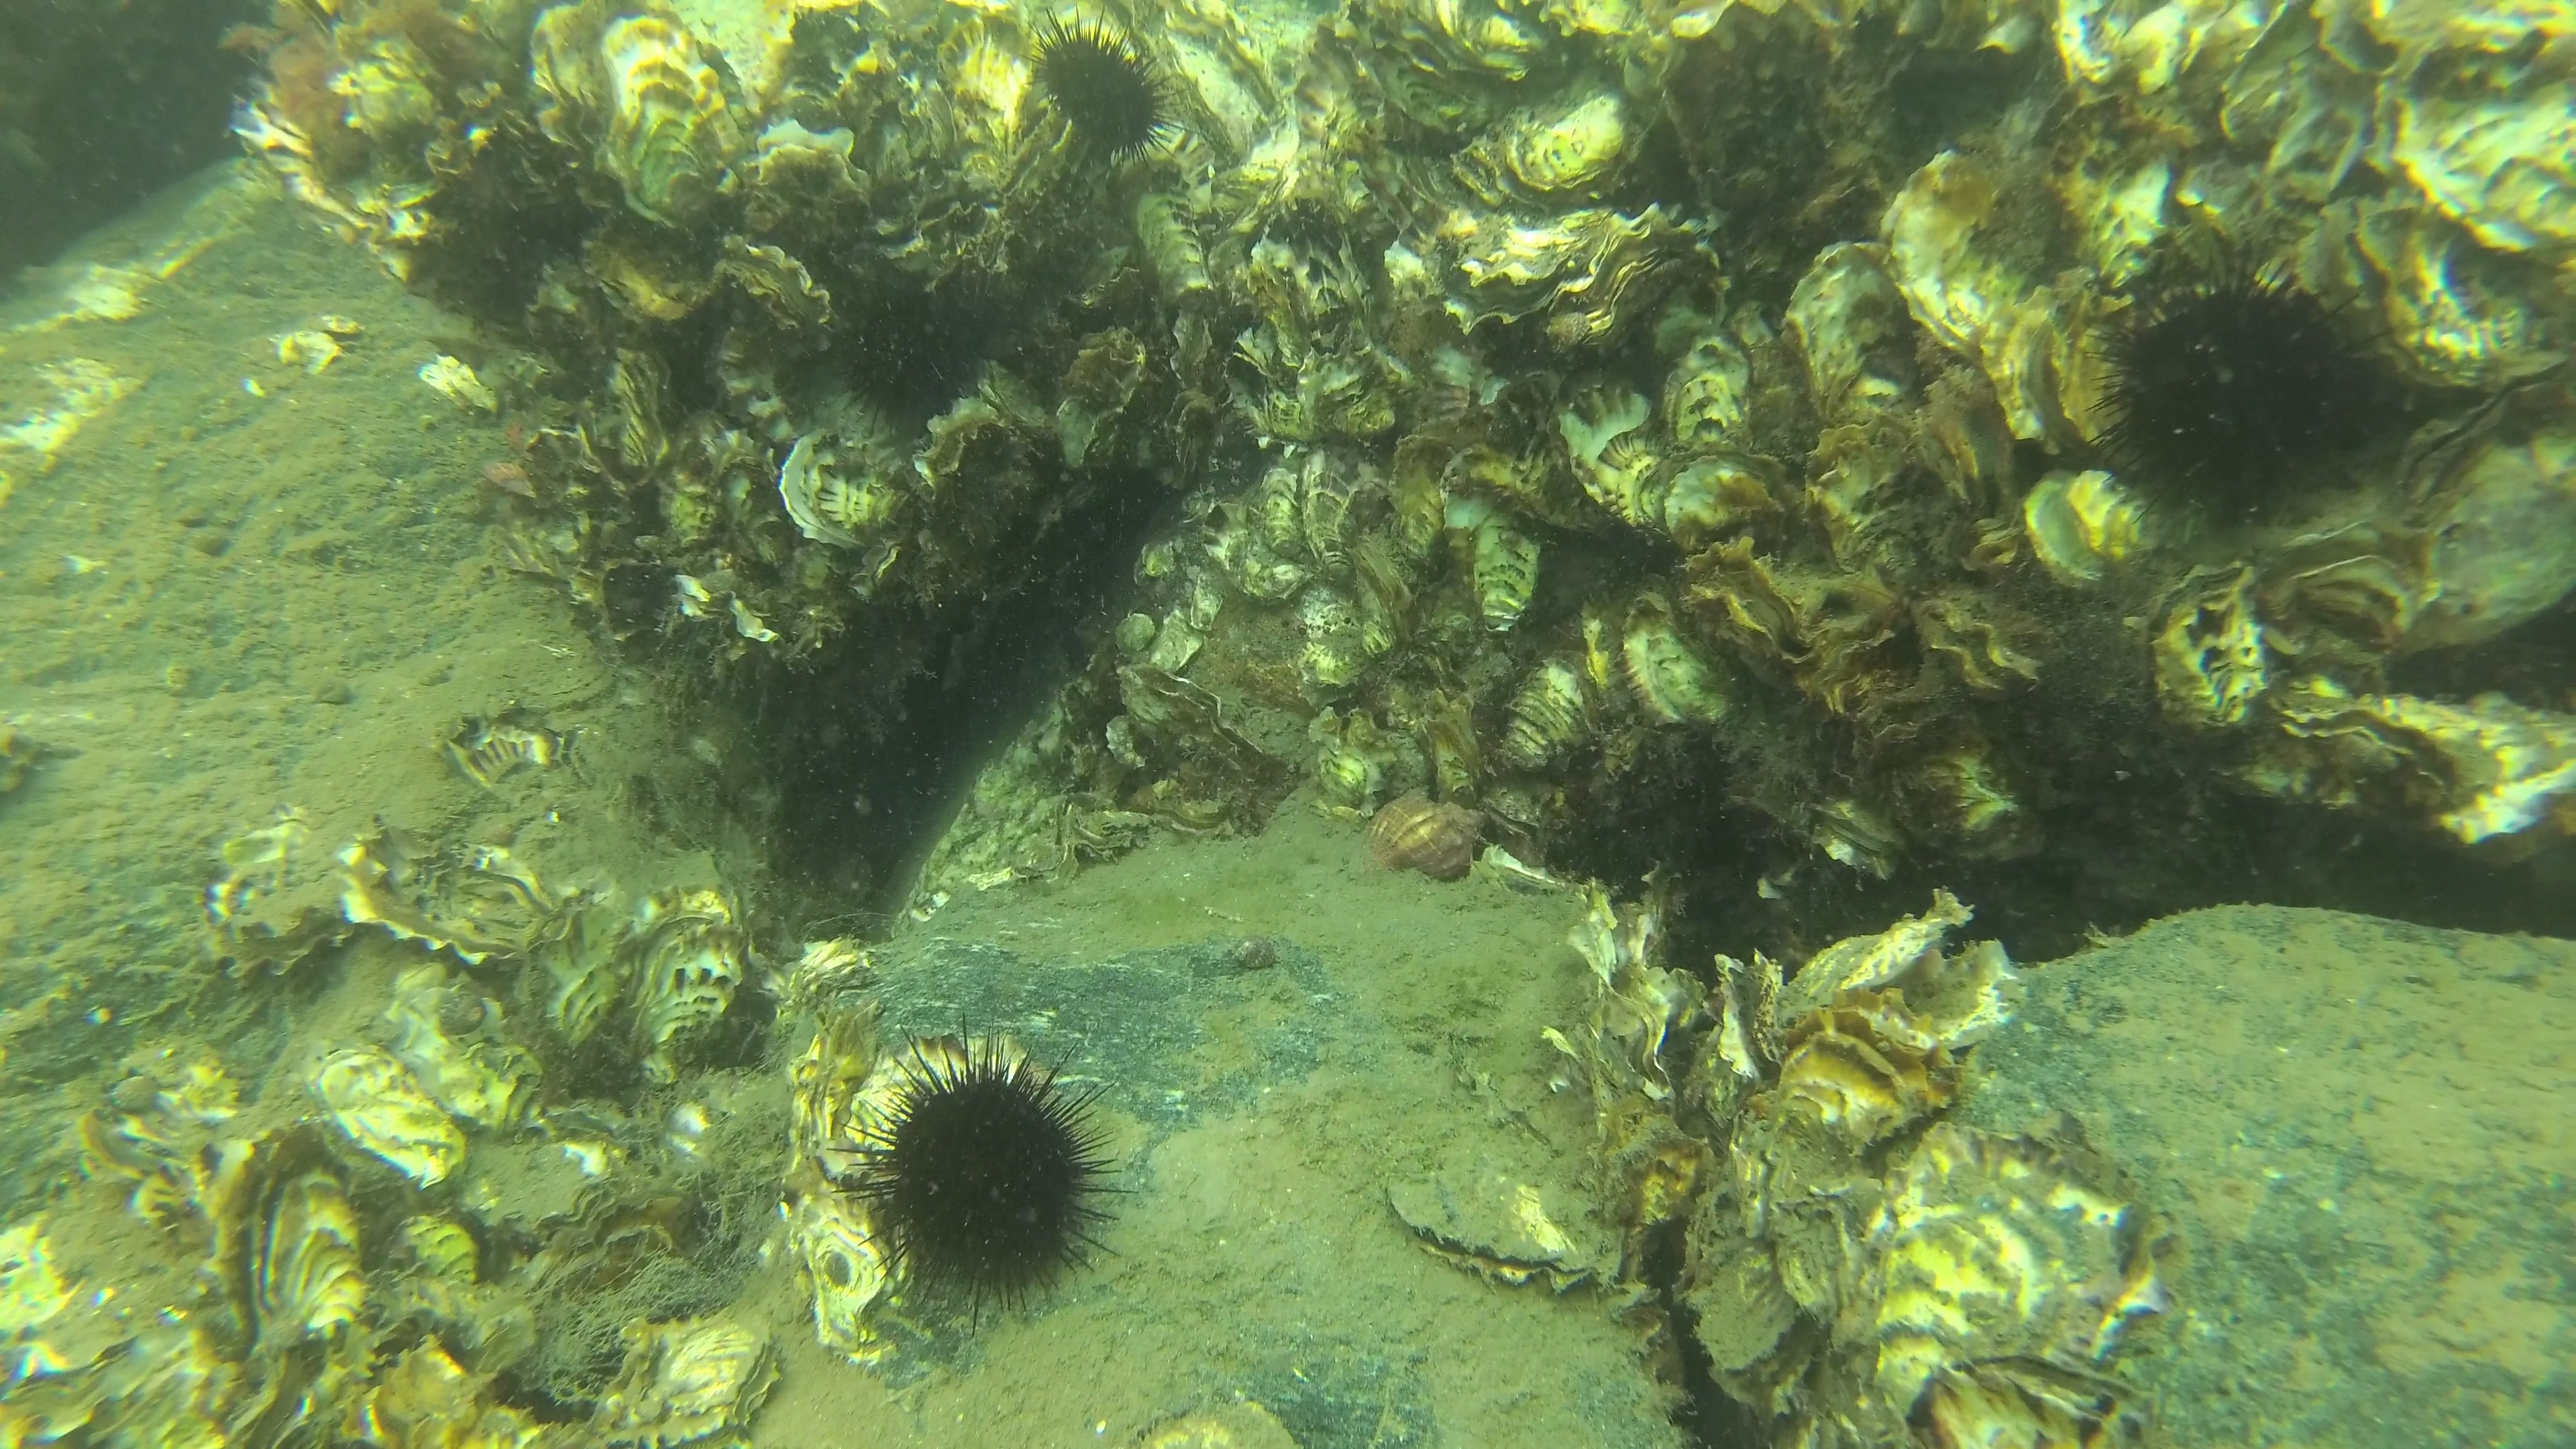echinus: (2091, 242, 2411, 547), (830, 1023, 1131, 1338), (1024, 0, 1184, 168), (833, 283, 971, 414)
